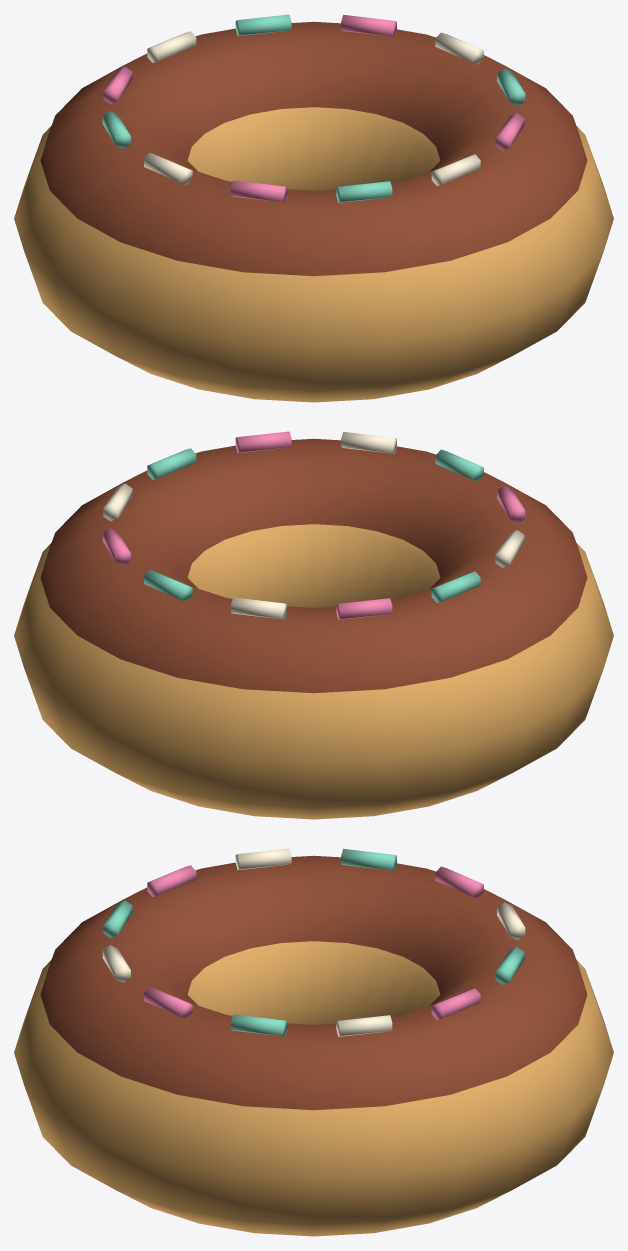
The model's file is donut.glb.
3 views of the same model, one above another, from view 1: azimuth 30°, elevation 25°; view 2: azimuth 150°, elevation 25°; view 3: azimuth 270°, elevation 25° (orthographic).
Parts seen in each view (by area): view 1: donut; view 2: donut; view 3: donut.
Part boxes in pixels (left/top/right/bottom): donut: left=14, top=14, right=613, bottom=402; donut: left=14, top=431, right=613, bottom=819; donut: left=14, top=848, right=613, bottom=1236.
Bounding box in the file's own units: 1 × 0.3758 × 1.
